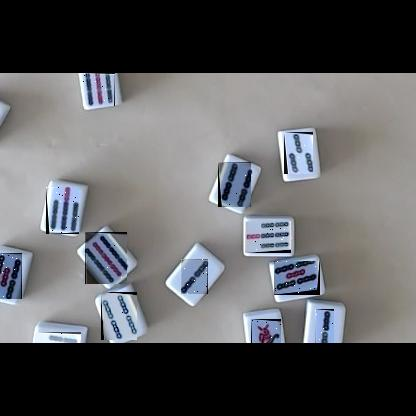1s: (251, 319, 281, 343)
2s: (181, 259, 208, 294), (315, 309, 334, 343)
3s: (284, 132, 313, 174)
4s: (101, 292, 137, 340), (218, 162, 251, 207)
5s: (274, 261, 320, 295), (0, 253, 22, 299)
7s: (46, 187, 79, 234), (245, 221, 291, 253), (34, 332, 81, 343)
9s: (85, 232, 127, 284), (83, 73, 115, 106)
